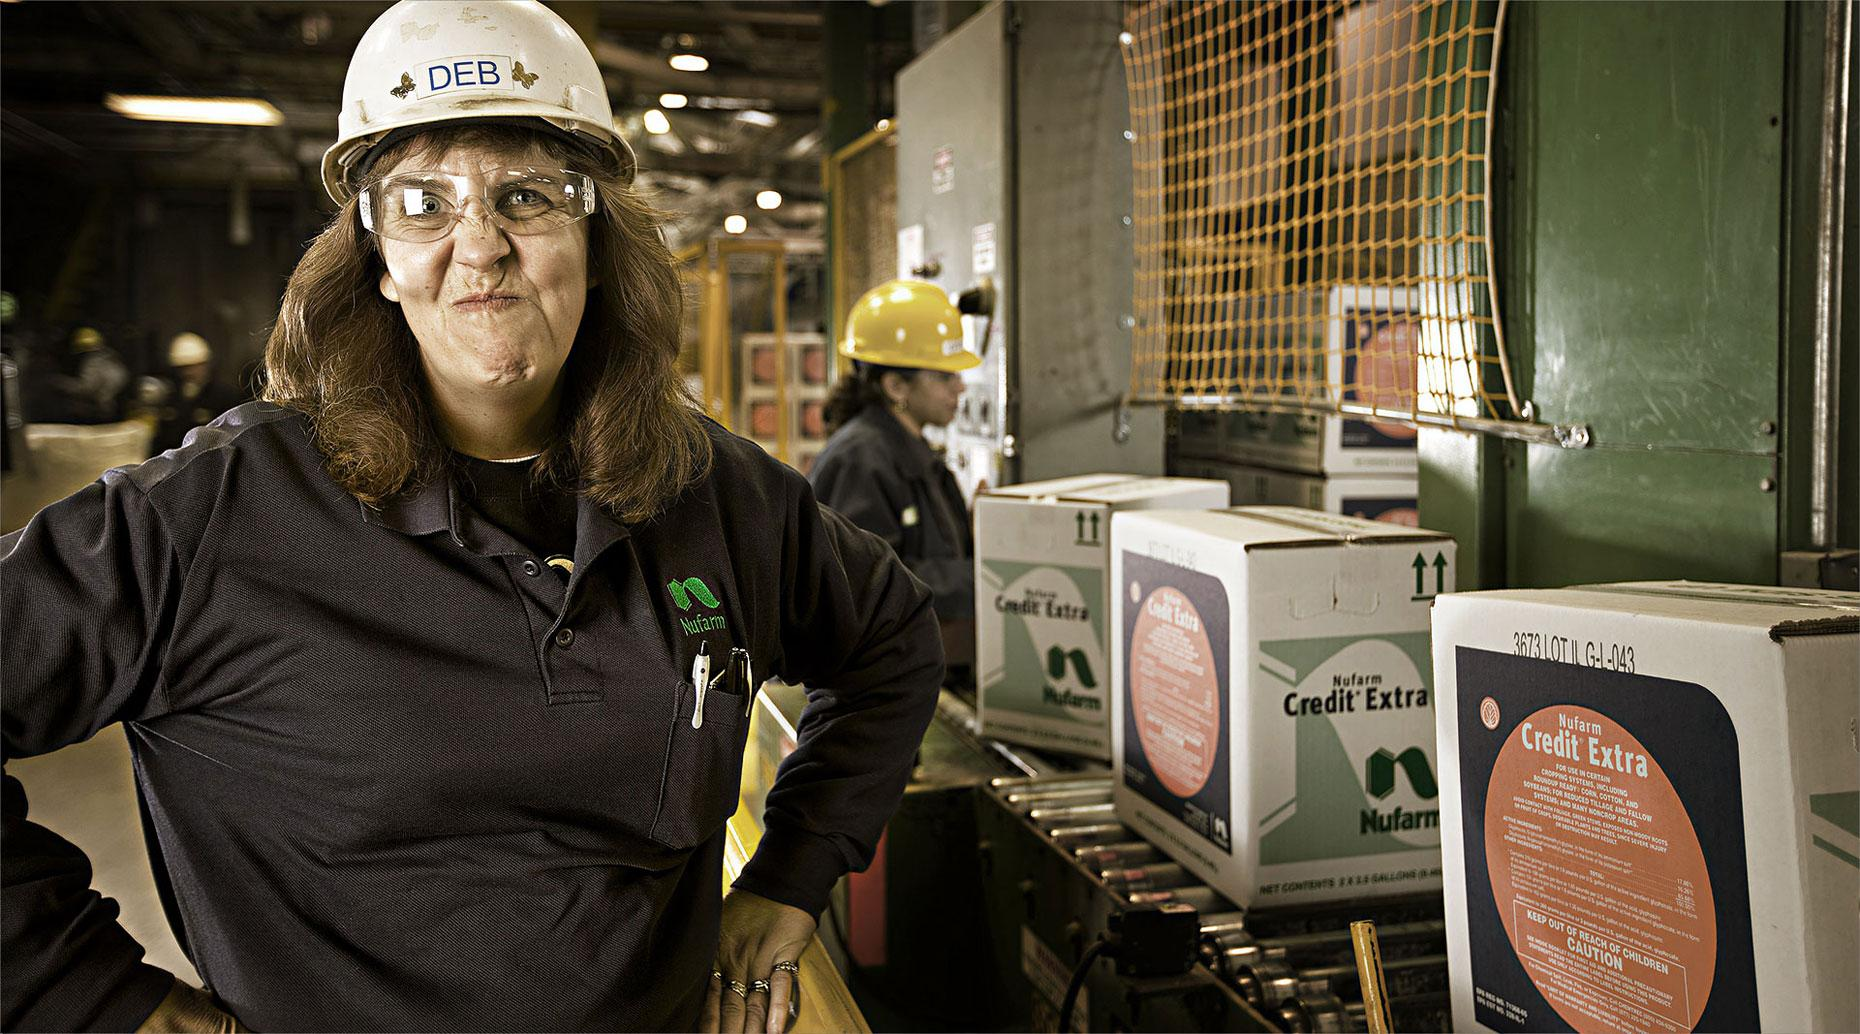helmet: (314, 1, 631, 183), (833, 281, 987, 374)
